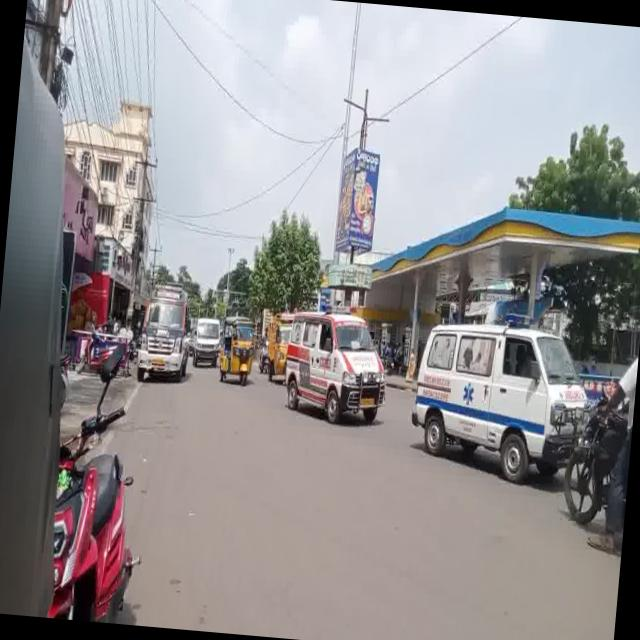ambulance: (392, 330, 597, 459), (267, 304, 393, 416), (124, 271, 206, 390)
